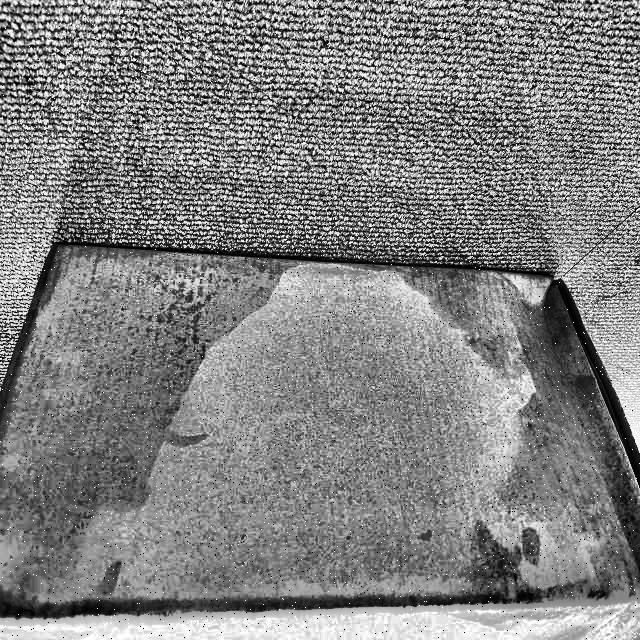box: (0, 224, 639, 640)
wet: (0, 248, 262, 628), (438, 260, 640, 640)
